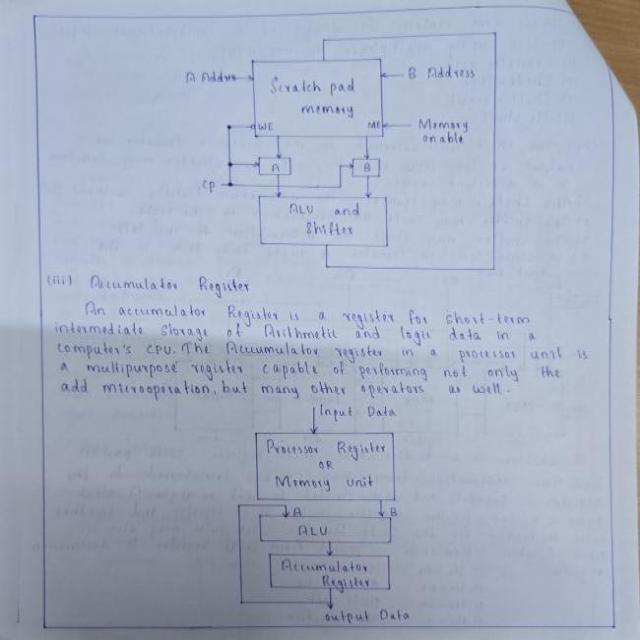Figure Detection - v3 Dataset Version2: (173, 21, 524, 276), (216, 398, 453, 627)
